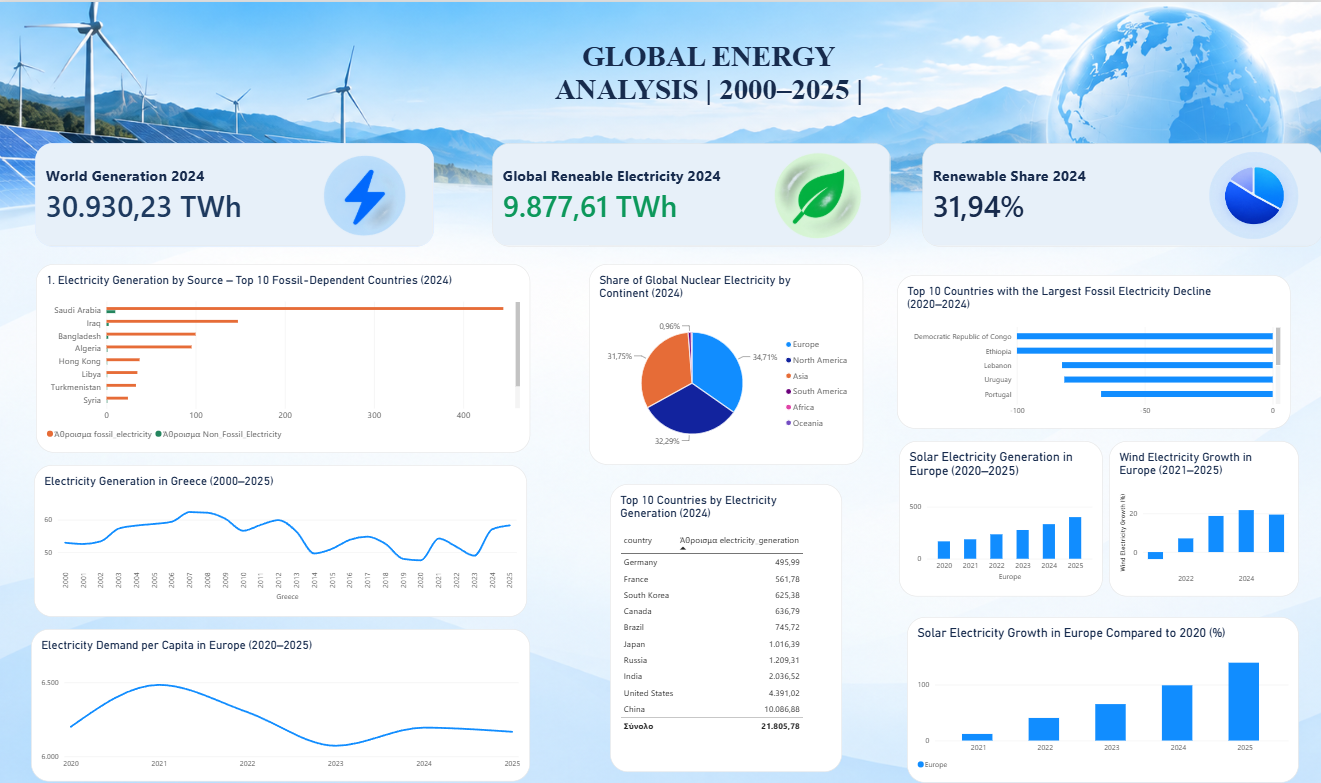

What the dashboard file says about the page in this screenshot:
{"tool":"powerbi","page":{"name":"Σελίδα 1","canvas":[2200,1300],"ordinal":0},"visuals":[{"type":"lineChart","title":"Electricity Demand per Capita in Europe (2020–2025)","fields":{"Category":["europe_energy_demand_per_capita_since_2020.year"],"Y":["Sum(europe_energy_demand_per_capita_since_2020.electricity_demand_per_capita)"]},"box":[56.7,1040,828.3,253.3],"z":0},{"type":"columnChart","title":"Solar Electricity Growth in Europe Compared to 2020 (%)","fields":{"Category":["europe_solar_electricity_growth_in_comparison_with_2020.year"],"Series":["europe_solar_electricity_growth_in_comparison_with_2020.country"],"Y":["Avg(europe_solar_electricity_growth_in_comparison_with_2020.solar_growth_percentage)"]},"box":[1510,1020,650,275],"z":1000},{"type":"columnChart","title":"Solar Electricity Generation in Europe (2020–2025)","fields":{"Category":["europe_solar_electricity_since_2020.country","europe_solar_electricity_since_2020.year"],"Y":["Sum(europe_solar_electricity_since_2020.solar_electricity)"]},"box":[1496.7,728.3,338.3,258.3],"z":2000},{"type":"lineChart","title":"Electricity Generation in Greece (2000–2025)","fields":{"Category":["paragwgh_energeia_greece.country","paragwgh_energeia_greece.year"],"Y":["Sum(paragwgh_energeia_greece.electricity_generation)"]},"box":[61.7,768.3,818.3,251.7],"z":3000},{"type":"columnChart","title":"Wind Electricity Growth in Europe (2021–2025)","fields":{"Category":["europe_wind_electricity_growth_in_comparison_with_2020.year"],"Y":["Avg(europe_wind_electricity_growth_in_comparison_with_2020.wind_growth_percentage)"]},"box":[1845,728.3,315,258.3],"z":4000},{"type":"pieChart","title":"Share of Global Nuclear Electricity by Continent (2024)","fields":{"Category":["percentage_of_nuclear_contitent.country"],"Y":["Sum(percentage_of_nuclear_contitent.nuclear_electricity)"]},"box":[981.7,435,455,333.3],"z":5000},{"type":"barChart","title":"Top 10 Countries with the Largest Fossil Electricity Decline (2020–2024)","fields":{"Category":["top10_countries_with_the_biggest_fossil_change_percentage_in_comparisson_with_20.country"],"Y":["Sum(top10_countries_with_the_biggest_fossil_change_percentage_in_comparisson_with_20.fossil_change_percentage)"]},"box":[1493.3,453.3,653.3,255],"z":6000},{"type":"clusteredBarChart","title":"1. Electricity Generation by Source – Top 10 Fossil-Dependent Countries (2024)","fields":{"Category":["top10_countries_with_the_biggest_fossil_percentage_of_electricity_generation.country"],"Y":["Sum(top10_countries_with_the_biggest_fossil_percentage_of_electricity_generation.fossil_electricity)","Sum(top10_countries_with_the_biggest_fossil_percentage_of_electricity_generation.Non_Fossil_Electricity)"]},"box":[65,435,820,313.3],"z":7000},{"type":"tableEx","title":"Top 10 Countries by Electricity Generation (2024)","fields":{"Values":["top10_electricity_generation.country","Sum(top10_electricity_generation.electricity_generation)"]},"box":[1016.7,800,385,478.3],"z":7001},{"type":"textbox","box":[880,61.7,603.3,171.7],"z":7003},{"type":"cardVisual","fields":{"Data":["top10_electricity_generation.World Generation 2024"]},"box":[63.3,233.3,661.7,172.2],"z":7004},{"type":"cardVisual","fields":{"Data":["europe_energy_demand_per_capita_since_2020.World Renewables 2024"]},"box":[821.7,233.3,661.7,171.7],"z":7005},{"type":"cardVisual","fields":{"Data":["europe_energy_demand_per_capita_since_2020.Renewable Share 2024"]},"box":[1535,233.3,665,171.7],"z":7006},{"type":"image","box":[278.3,245,662,150],"z":7007},{"type":"image","box":[1286.7,245,150,150],"z":7009},{"type":"image","box":[1973.3,245,226.7,150],"z":7010}]}

Visuals, with their boxes in screenshot pixels (x1, y1, x2, y2), scaled from the page's 2200x1300 canvas onto the 1321x783 screenshot:
"Electricity Demand per Capita in Europe (2020–2025)" lineChart: (34, 626, 531, 779)
"Solar Electricity Growth in Europe Compared to 2020 (%)" columnChart: (907, 614, 1297, 780)
"Solar Electricity Generation in Europe (2020–2025)" columnChart: (899, 439, 1102, 594)
"Electricity Generation in Greece (2000–2025)" lineChart: (37, 463, 528, 614)
"Wind Electricity Growth in Europe (2021–2025)" columnChart: (1108, 439, 1297, 594)
"Share of Global Nuclear Electricity by Continent (2024)" pieChart: (589, 262, 863, 463)
"Top 10 Countries with the Largest Fossil Electricity Decline (2020–2024)" barChart: (897, 273, 1289, 427)
"1. Electricity Generation by Source – Top 10 Fossil-Dependent Countries (2024)" clusteredBarChart: (39, 262, 531, 451)
"Top 10 Countries by Electricity Generation (2024)" tableEx: (610, 482, 842, 770)
textbox: (528, 37, 891, 141)
cardVisual - top10_electricity_generation.World Generation 2024: (38, 141, 435, 244)
cardVisual - europe_energy_demand_per_capita_since_2020.World Renewables 2024: (493, 141, 891, 244)
cardVisual - europe_energy_demand_per_capita_since_2020.Renewable Share 2024: (922, 141, 1320, 244)
image: (167, 148, 565, 238)
image: (773, 148, 863, 238)
image: (1185, 148, 1320, 238)
